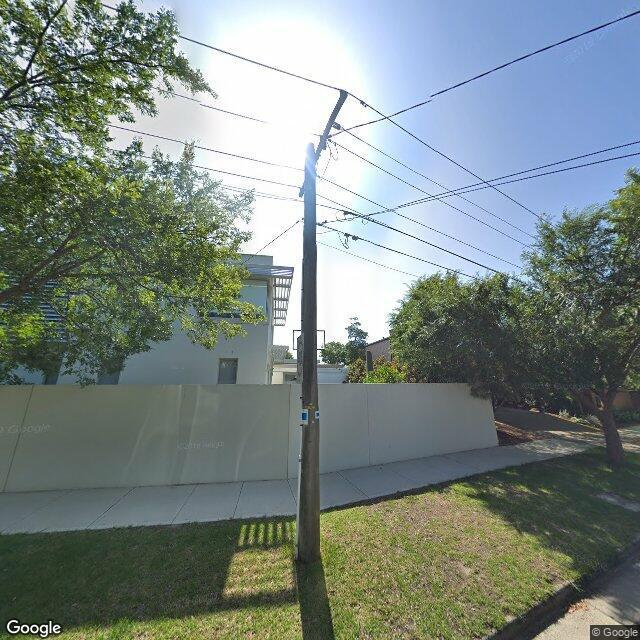crossarm: (298, 89, 348, 198)
timber-pole: (296, 142, 321, 560)
